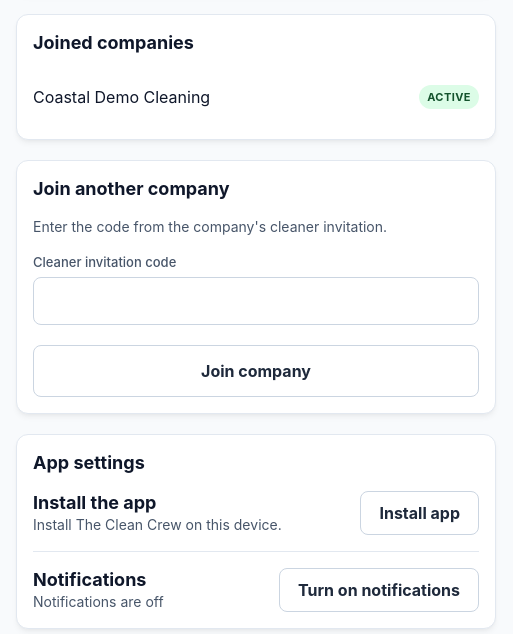
Test case: CLE-26 cleaner profile › reuses the join error vocabulary for a dead invitation code
(page scrolled)
Step 1. Type "OLD-CODE" into the field labelled "Cleaner invitation code" → x=256, y=301, box x1=33 y1=277 x2=479 y2=325
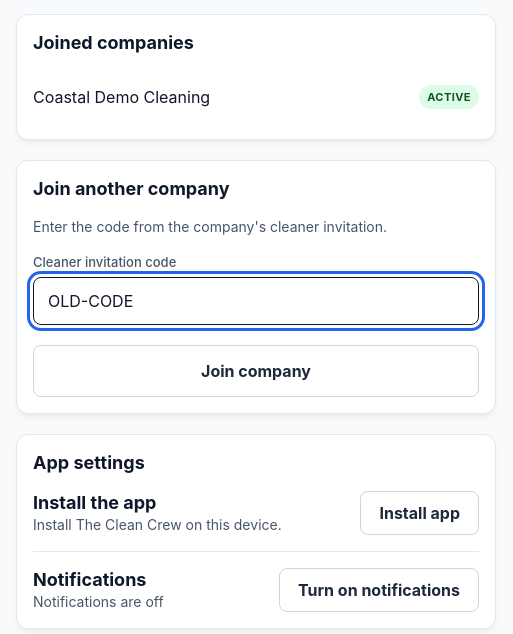
Step 2. Click the button "Join company" → x=256, y=371, box x1=33 y1=345 x2=479 y2=397
(page scrolled)
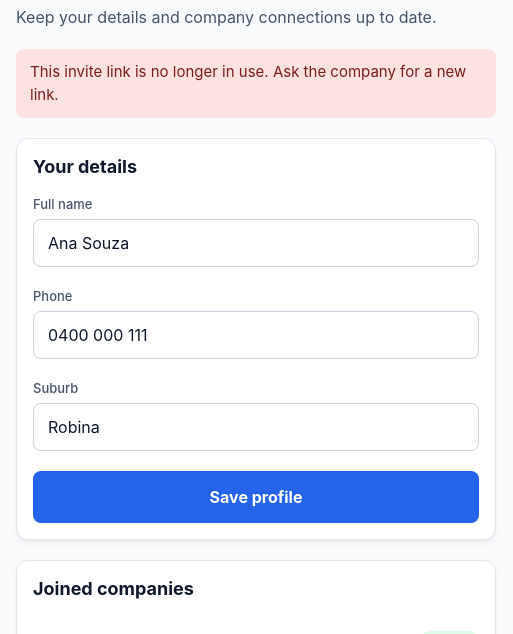
Expected: the message reads "This invite link is no longer in use. Ask the company for a new link.", x1=30 y1=62 x2=466 y2=104
